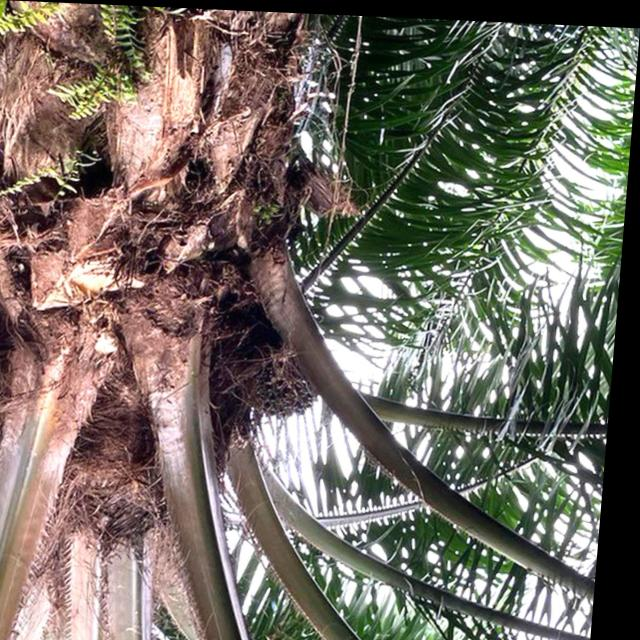unripe: (255, 336, 330, 419)
